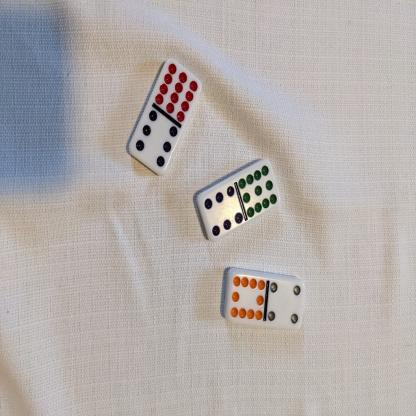pip-10: (225, 272, 265, 323)
pip-11: (238, 159, 279, 216)
pip-12: (155, 57, 200, 123)
pip-4: (264, 277, 304, 329)
pip-6: (128, 110, 177, 174), (197, 185, 242, 239)
